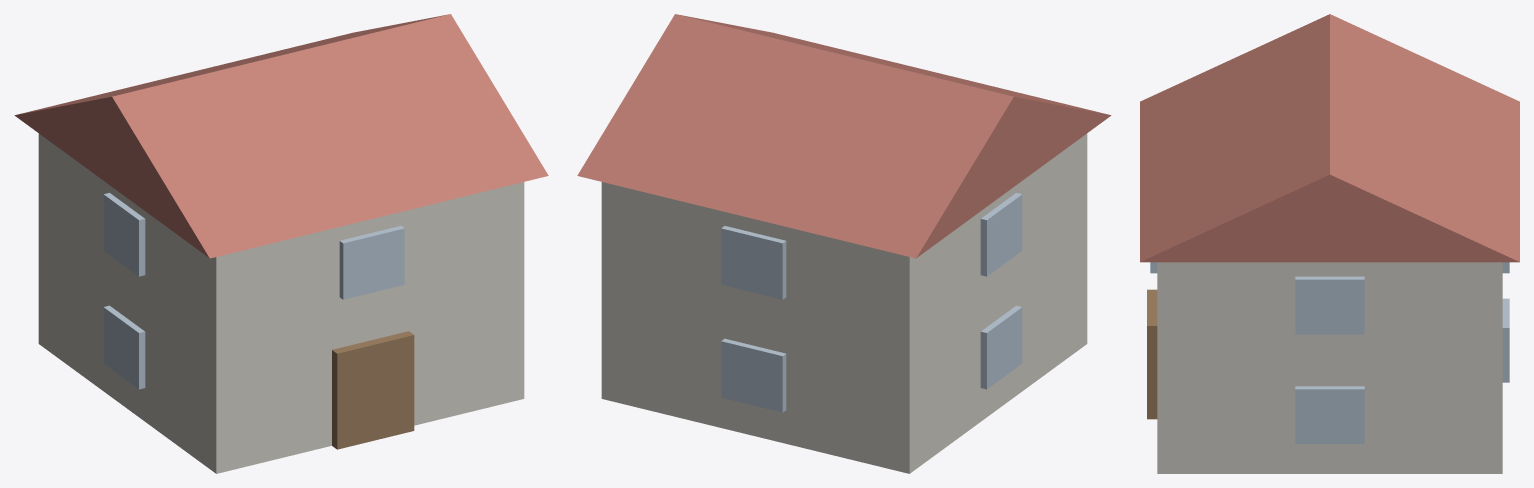
Rendered from House_1x1_2F.glb.
The picture shows the model from 3 angles, left to right: view 1: azimuth 30°, elevation 25°; view 2: azimuth 150°, elevation 25°; view 3: azimuth 270°, elevation 25°; orthographic projection. The views are drawn at different scales.
Visible parts, largest first — view 1: House_1x1_2F; view 2: House_1x1_2F; view 3: House_1x1_2F.
Part boxes in pixels (bbox=[...]): House_1x1_2F: bbox=[14, 14, 548, 473]; House_1x1_2F: bbox=[577, 14, 1111, 473]; House_1x1_2F: bbox=[1140, 14, 1519, 473].
Size of the model in its own units: 1.1 by 0.98 by 1.1.
